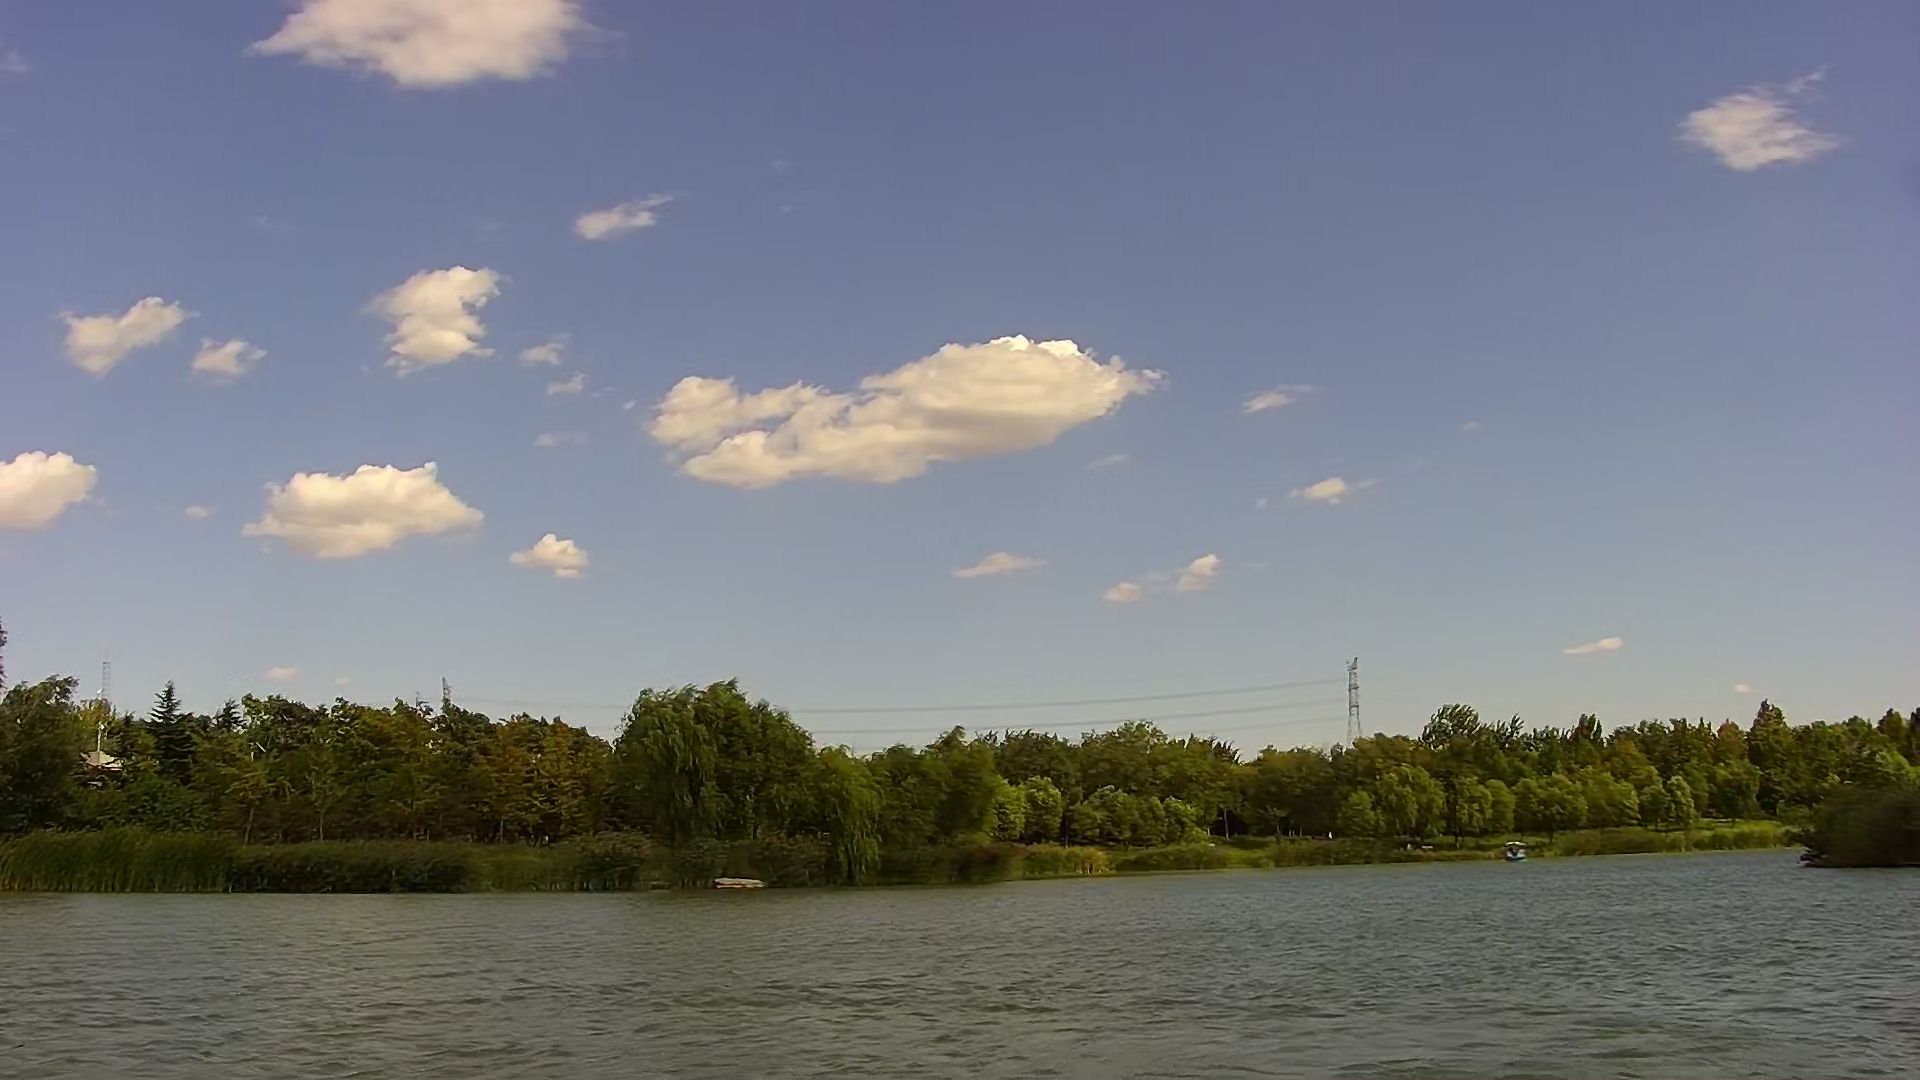boat: (1501, 840, 1526, 868)
